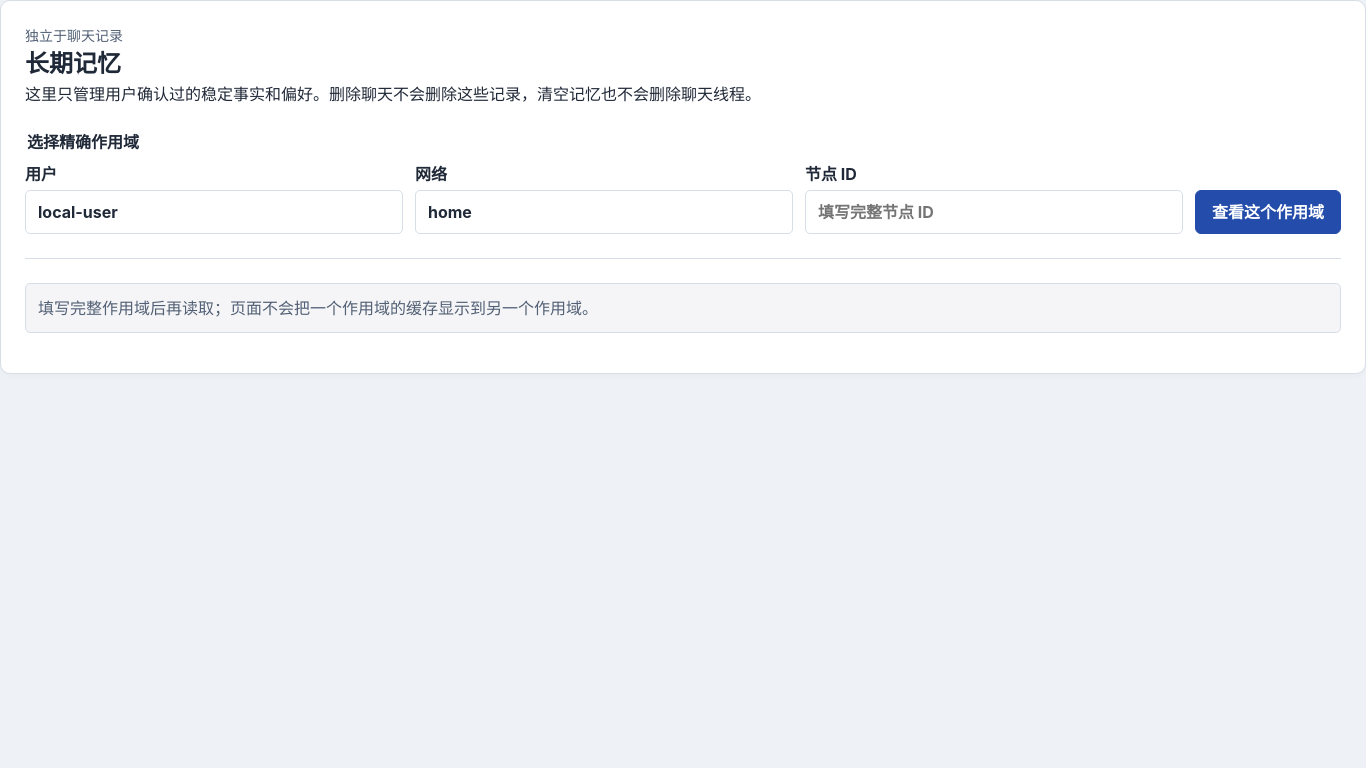
Test case: MemoriesPage › 服务返回其他 user 作用域时 fail closed
The image size is (1366, 768).
Type "node_6fcf3484754b46c6bc3ef4571e76495e" into the field labelled "节点 ID" at [994, 212], box [805,190,1183,234]
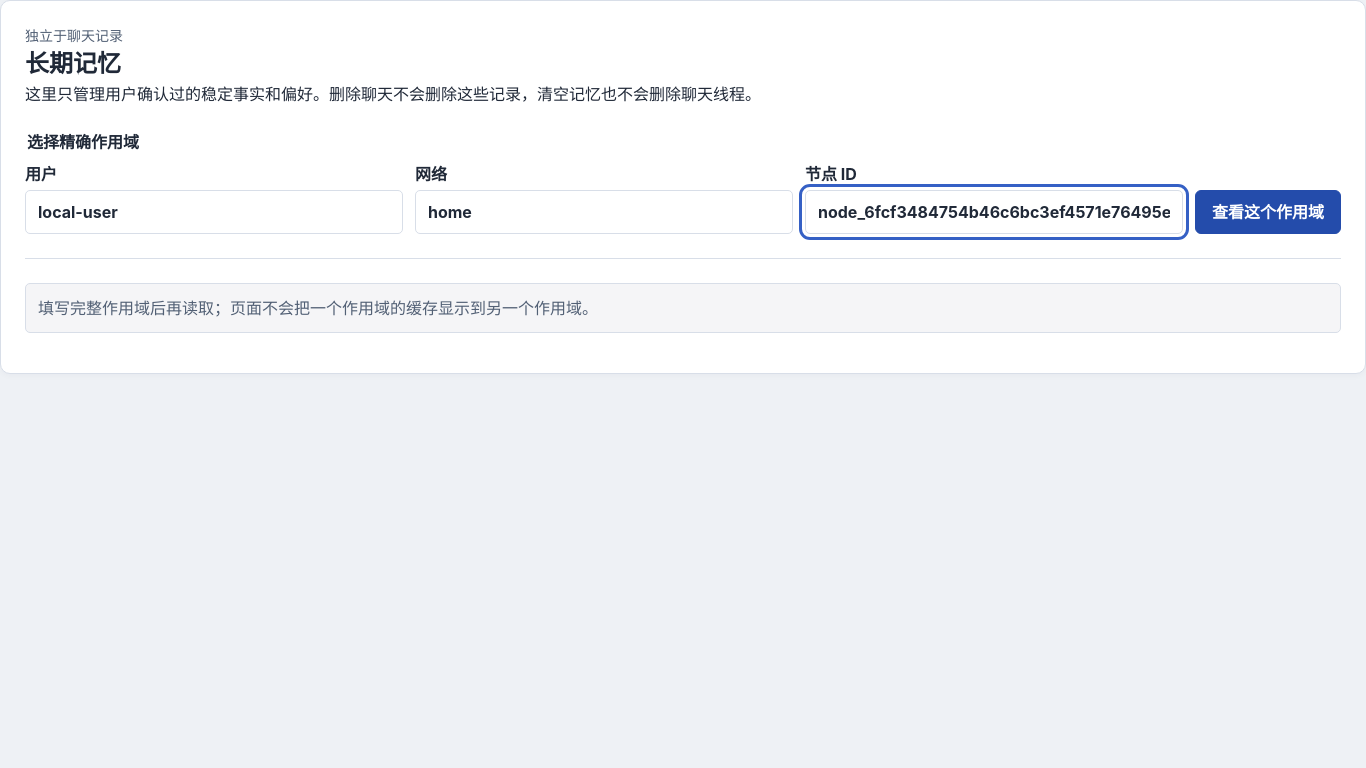
Click the button "查看这个作用域" at [1268, 212], box [1195,190,1341,234]
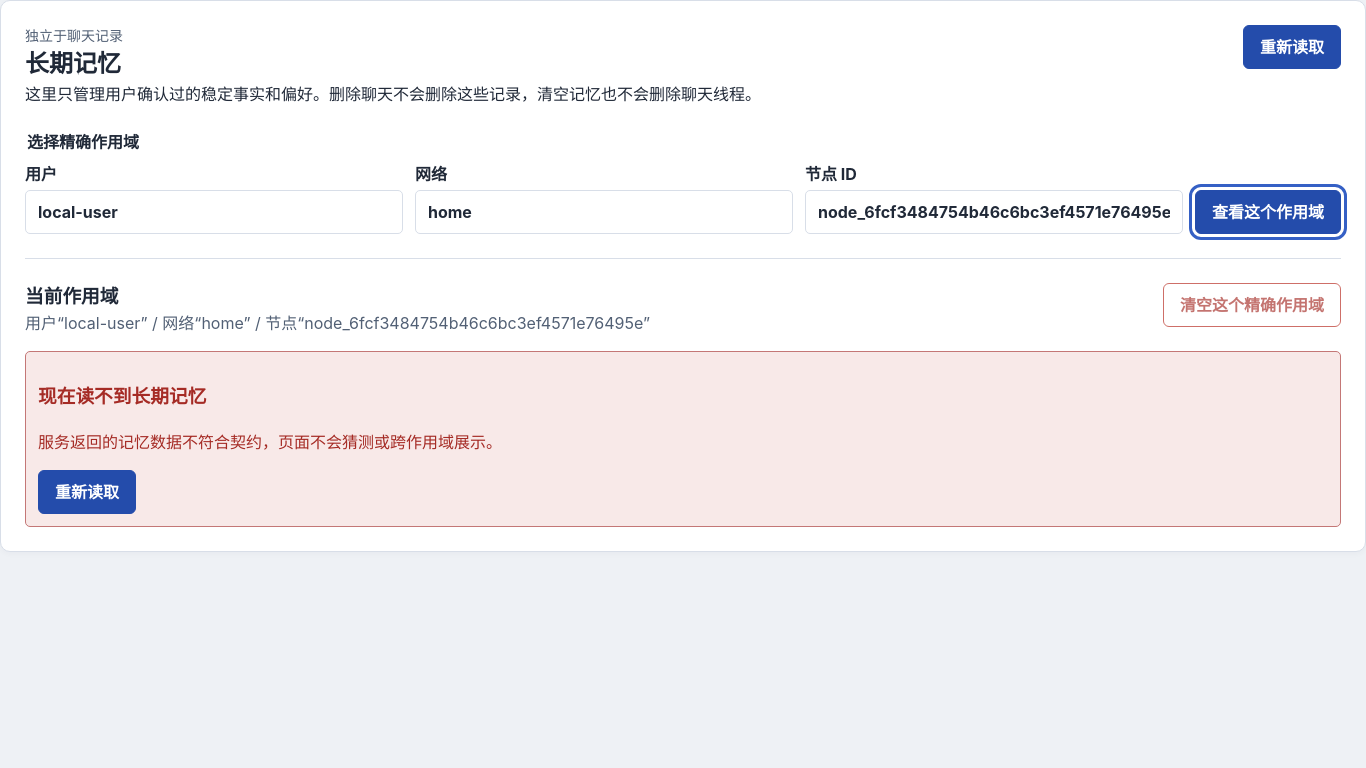
Expected: the heading "现在读不到长期记忆" is shown, [38,385,206,408]
Expected: the text "服务返回的记忆数据不符合契约，页面不会猜测或跨作用域展示。" is shown, [38,432,502,452]
